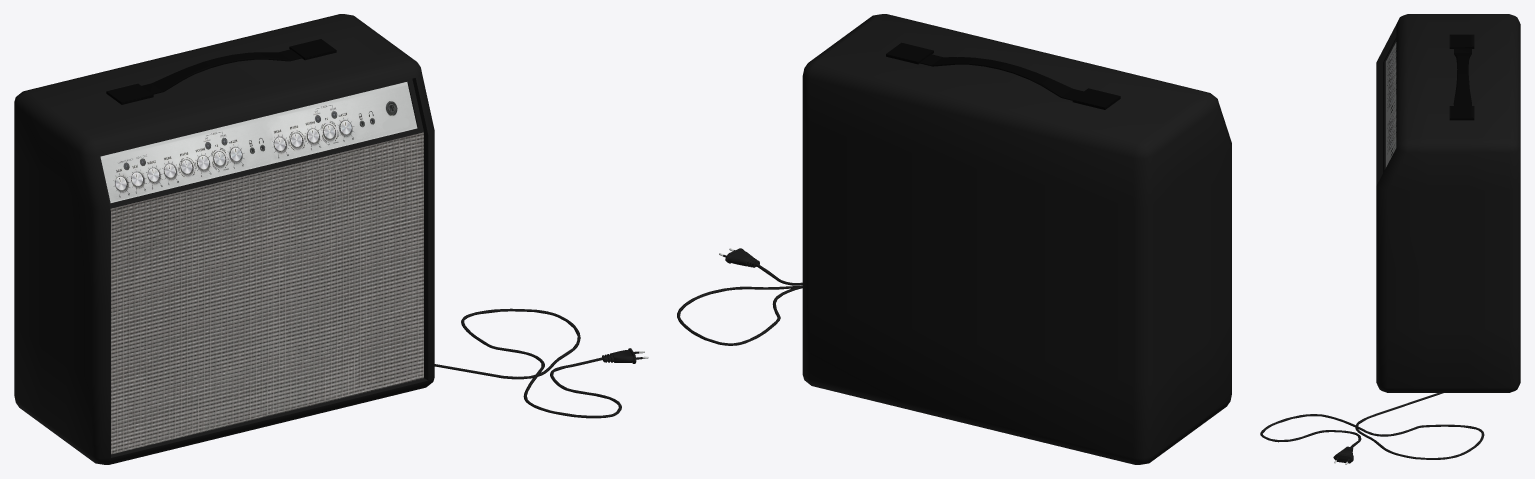
File: Speaker guitar.FBX
3 renders of one model, left to right at view 1: azimuth 30°, elevation 25°; view 2: azimuth 150°, elevation 25°; view 3: azimuth 270°, elevation 25°, orthographic. The views are drawn at different scales.
Visible parts, largest first — view 1: speaker guitar, wire; view 2: speaker guitar, wire; view 3: speaker guitar, wire.
Part boxes in pixels (x1,y1,x2,y2): speaker guitar: (14,14,434,464); wire: (434,308,648,418); speaker guitar: (802,14,1231,464); wire: (677,248,802,345); speaker guitar: (1376,14,1520,392); wire: (1260,392,1484,464).
Bounding box in the file's own units: 86.72 × 51.94 × 46.36.
2 materials, 2 textured.
